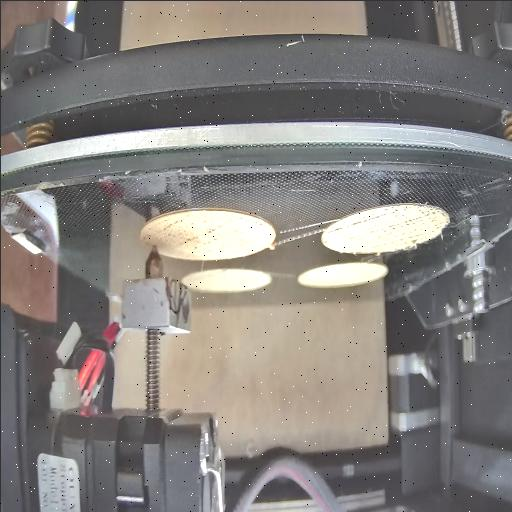under_extrusion: (346, 206, 444, 248), (157, 212, 223, 250), (238, 212, 266, 234), (321, 223, 342, 236)
